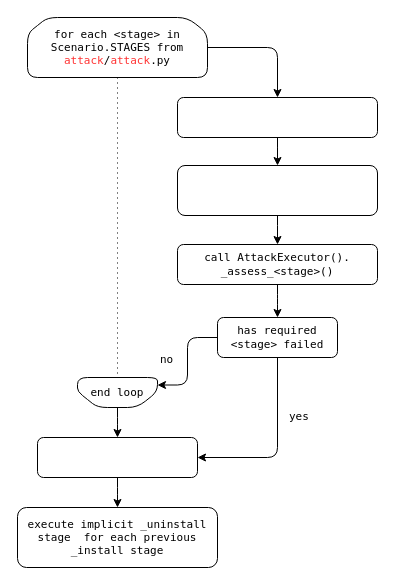
The diagram is 395 pixels wide and 585 high, and some of its shapes have lost their labels. Each missing label, with the box of its shape:
call AttackExecutor(). _<stage>() (e.g. _install()): (176, 164, 378, 216)
call AttackExecutor(). _pre_<stage>(): (176, 96, 378, 138)
mark the rest of the stages as skipped: (36, 436, 198, 478)
